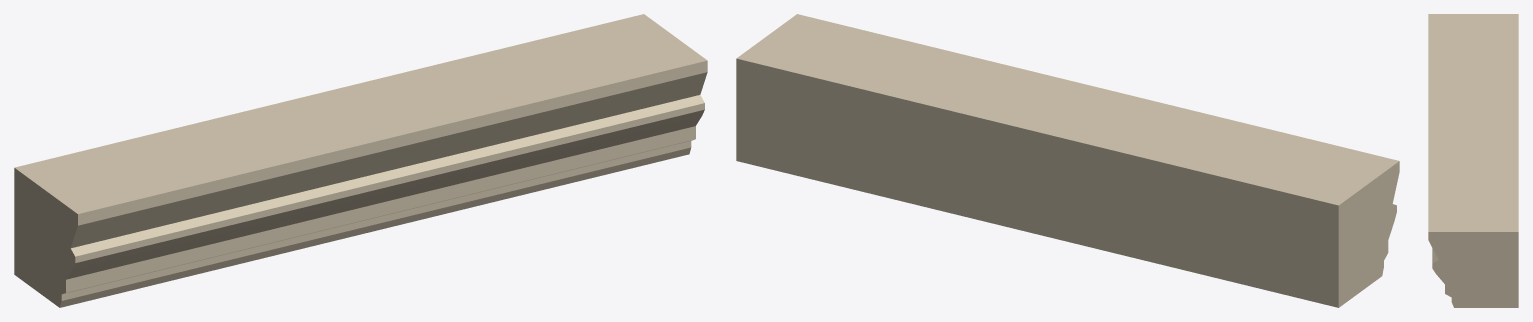
The model's file is T06_Cornice_Straight.glb.
3 renders of one model, left to right at view 1: azimuth 30°, elevation 25°; view 2: azimuth 150°, elevation 25°; view 3: azimuth 270°, elevation 25°, orthographic. The views are drawn at different scales.
Parts seen in each view (by area): view 1: T06_Cornice_Straight; view 2: T06_Cornice_Straight; view 3: T06_Cornice_Straight.
Boxes of the visible parts, x1,y1,x2,y2 form: T06_Cornice_Straight: [14, 14, 707, 307]; T06_Cornice_Straight: [736, 14, 1399, 307]; T06_Cornice_Straight: [1428, 14, 1518, 307].
Bounding box in the file's own units: 4 × 0.65 × 0.7.
